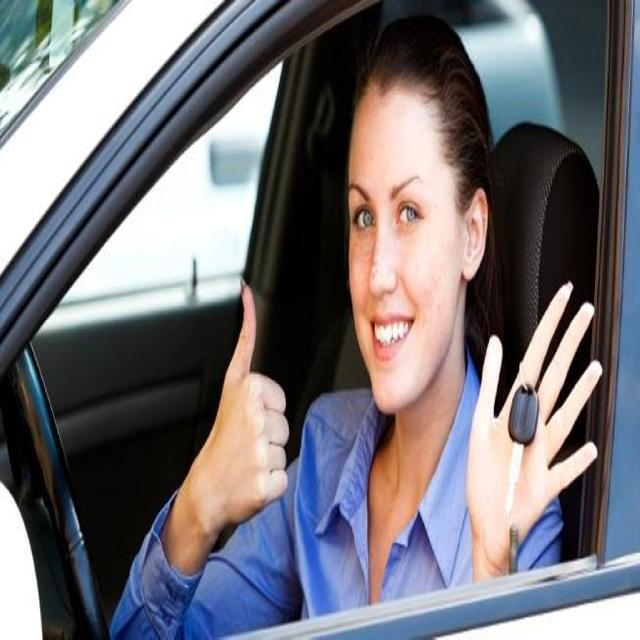Face: (340, 78, 465, 423)
